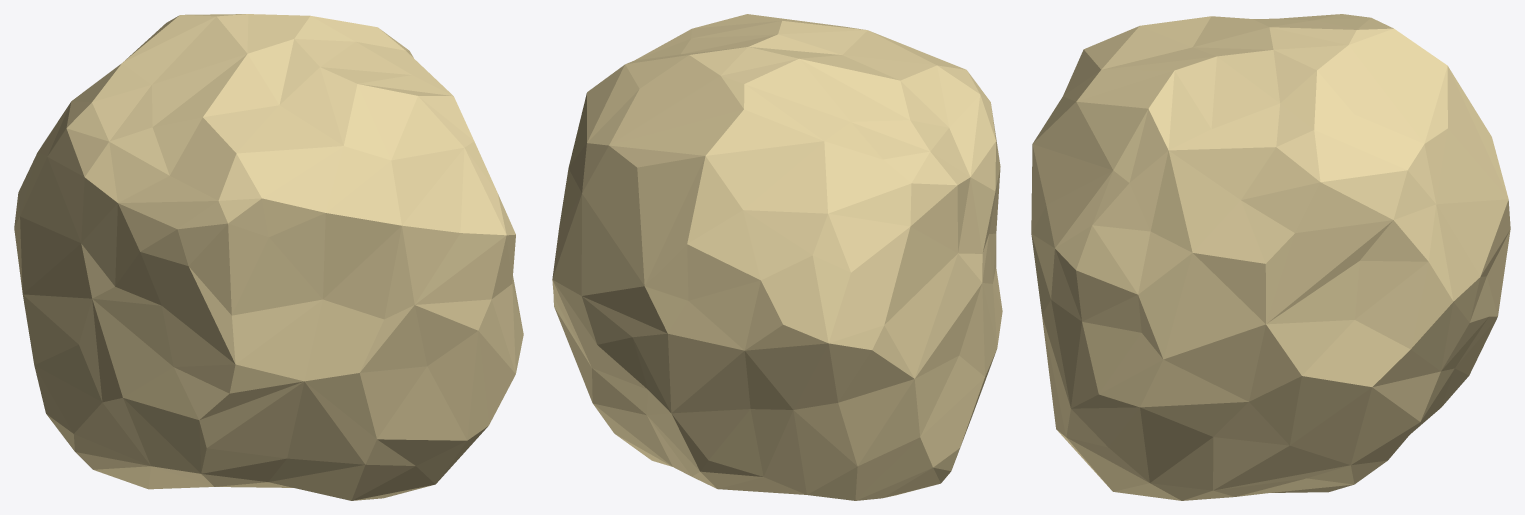
Rendered from Asteroid (102).fbx.
The picture shows the model from 3 angles, left to right: view 1: azimuth 30°, elevation 25°; view 2: azimuth 150°, elevation 25°; view 3: azimuth 270°, elevation 25°; orthographic projection.
Visible parts, largest first — view 1: Asteroid117; view 2: Asteroid117; view 3: Asteroid117.
Boxes of the visible parts, x1,y1,x2,y2 form: Asteroid117: (14,14,523,500); Asteroid117: (552,14,1002,500); Asteroid117: (1031,14,1510,500).
Size of the model in its own units: 231 by 240 by 245.
